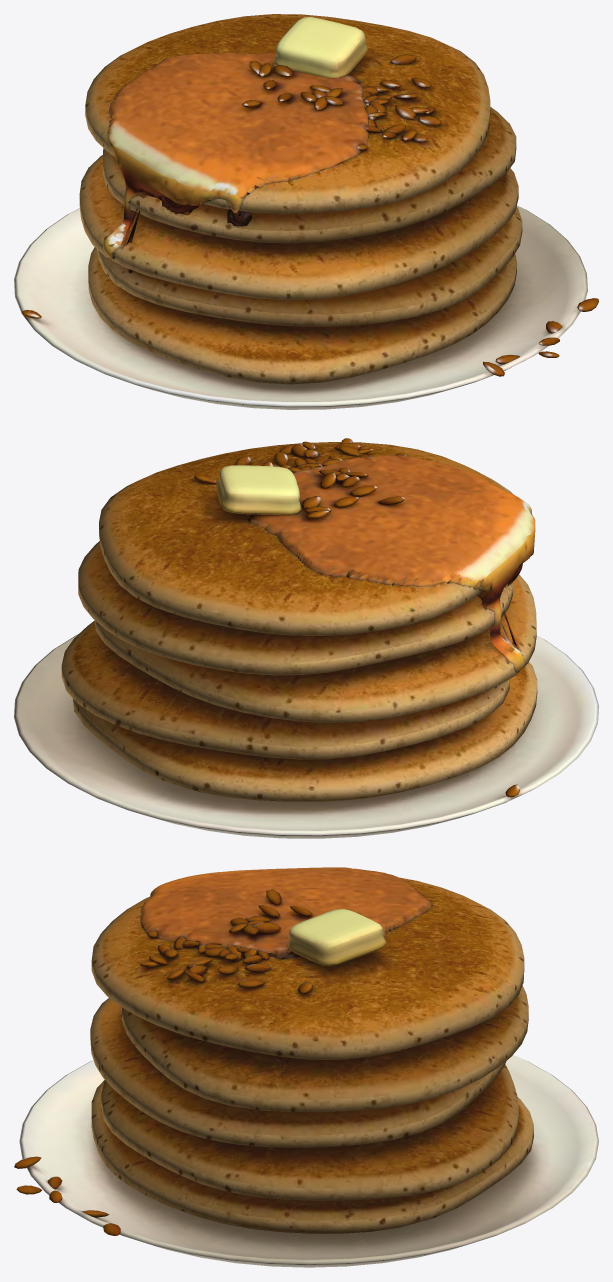
File: pancake--flaxseed-ground.glb
The picture shows the model from 3 angles, top to bottom: view 1: azimuth 30°, elevation 25°; view 2: azimuth 150°, elevation 25°; view 3: azimuth 270°, elevation 25°; orthographic projection.
Visible parts, largest first — view 1: pancake_flaxseed-ground; view 2: pancake_flaxseed-ground; view 3: pancake_flaxseed-ground.
Boxes of the visible parts, left/top/right/bottom form: pancake_flaxseed-ground: left=14, top=14, right=598, bottom=409; pancake_flaxseed-ground: left=14, top=438, right=598, bottom=838; pancake_flaxseed-ground: left=14, top=867, right=598, bottom=1267.
Bounding box in the file's own units: 1.07 × 0.5354 × 1.08.
Materials: 1 (1 with a texture image).
